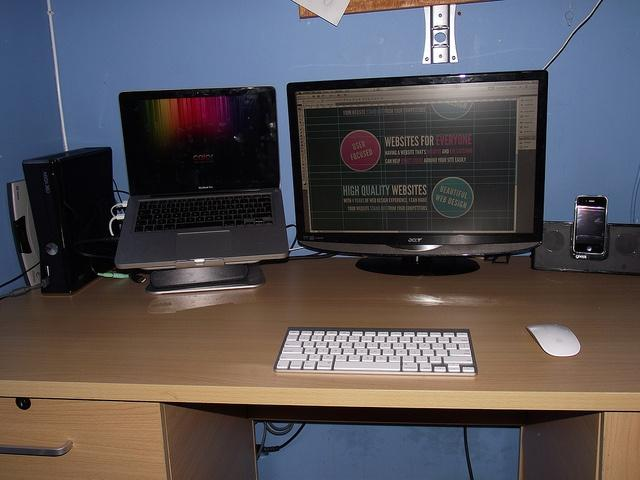AIO PC-Monitor-TV: (285, 68, 548, 278)
Meja: (0, 253, 639, 413)
